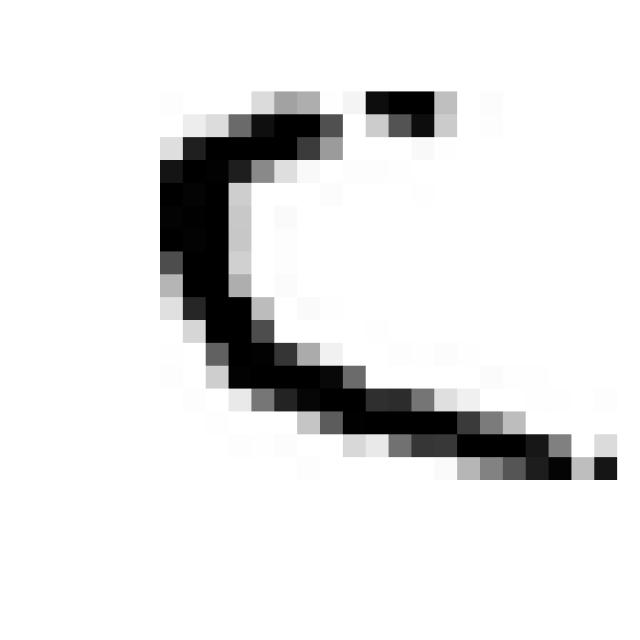2 -two-: (140, 59, 634, 507)
